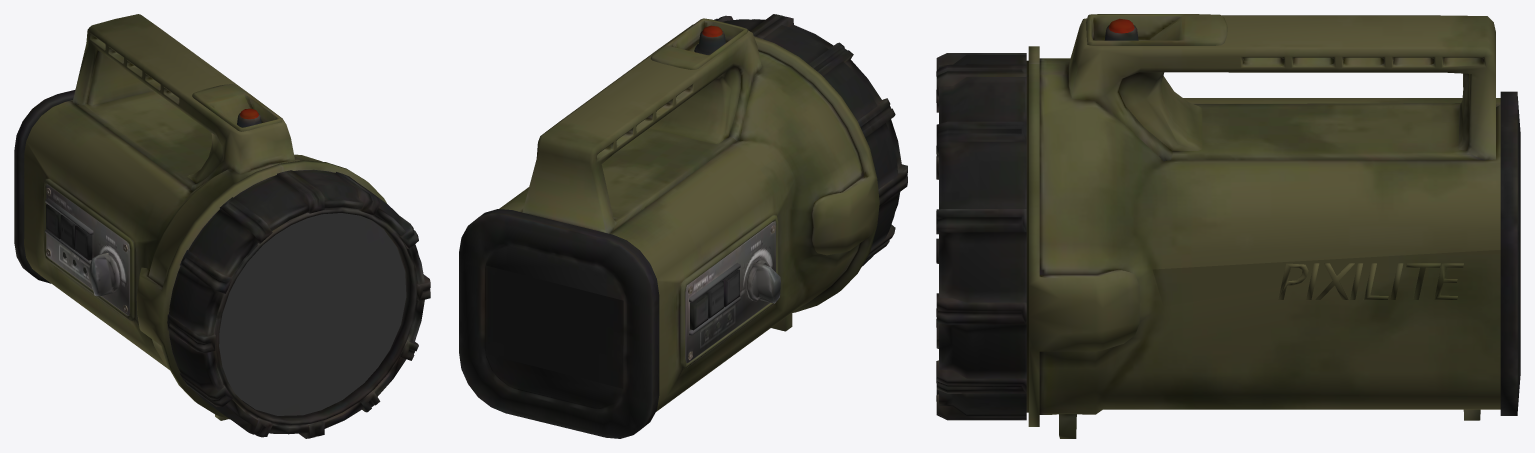
The model's file is portable_searchlight.glb.
3 renders of one model, left to right at view 1: azimuth 30°, elevation 25°; view 2: azimuth 150°, elevation 25°; view 3: azimuth 270°, elevation 25°, orthographic. The views are drawn at different scales.
Visible parts, largest first — view 1: portable_searchlight; view 2: portable_searchlight; view 3: portable_searchlight.
Part boxes in pixels (box(x1,y1,x2,y2)): portable_searchlight: box(14, 14, 430, 438); portable_searchlight: box(459, 14, 907, 438); portable_searchlight: box(936, 14, 1520, 438).
Size of the model in its own units: 0.1652 by 0.1854 by 0.2534.
Materials: 2 (2 with a texture image).
